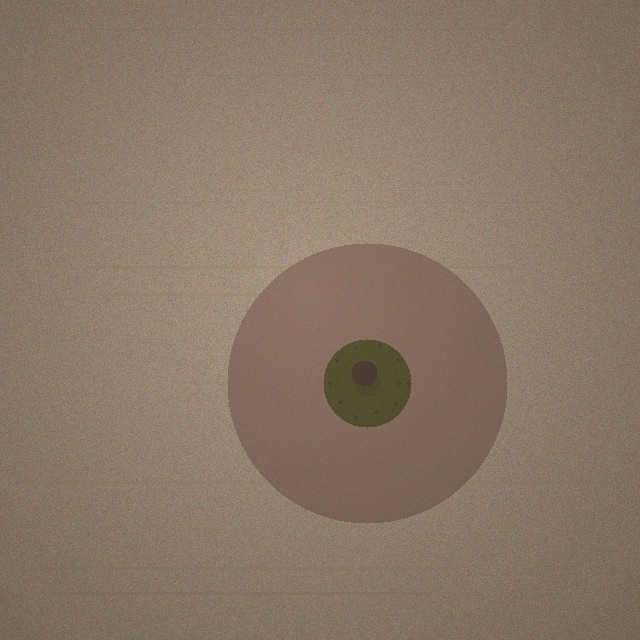cold_weld: (227, 243, 507, 523)
